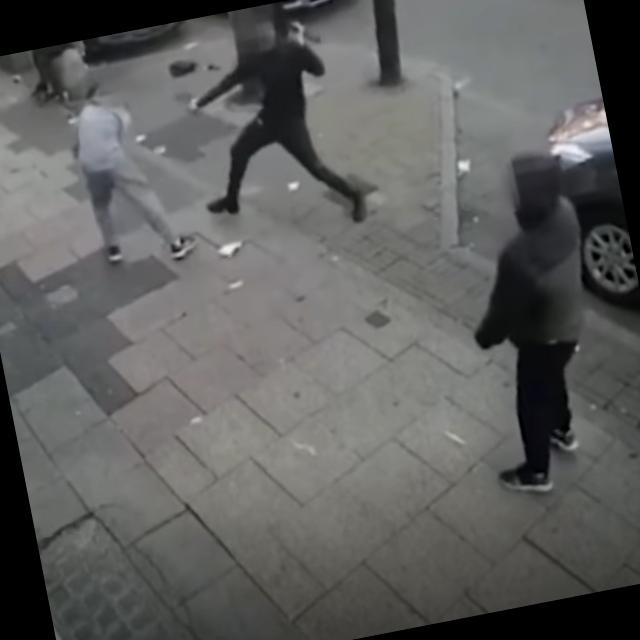person: (436, 140, 630, 502), (173, 12, 368, 250), (62, 75, 198, 272)
